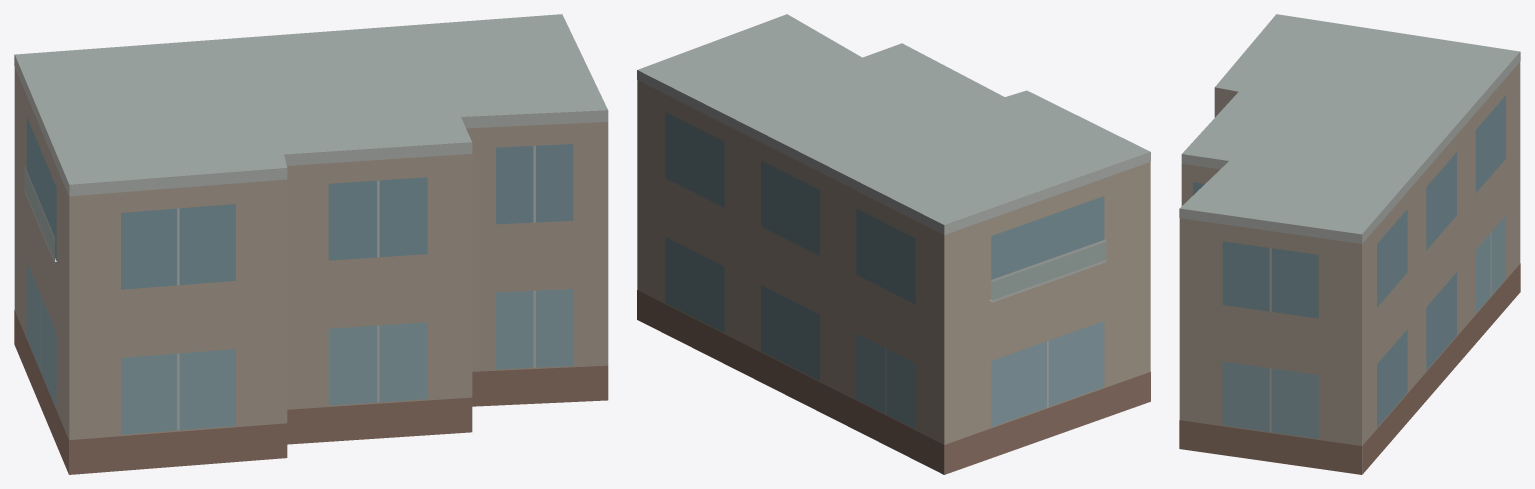
Rendered from survey-upis-32553051.glb.
The picture shows the model from 3 angles, left to right: view 1: azimuth 30°, elevation 25°; view 2: azimuth 150°, elevation 25°; view 3: azimuth 270°, elevation 25°; orthographic projection. The views are drawn at different scales.
Parts seen in each view (by area): view 1: survey-upis-32553051.tmp; view 2: survey-upis-32553051.tmp; view 3: survey-upis-32553051.tmp.
Boxes of the visible parts, bbox=[...] form: survey-upis-32553051.tmp: bbox=[14, 14, 608, 474]; survey-upis-32553051.tmp: bbox=[637, 14, 1150, 474]; survey-upis-32553051.tmp: bbox=[1179, 14, 1520, 474].
Size of the model in its own units: 12 by 6.1 by 7.85.
